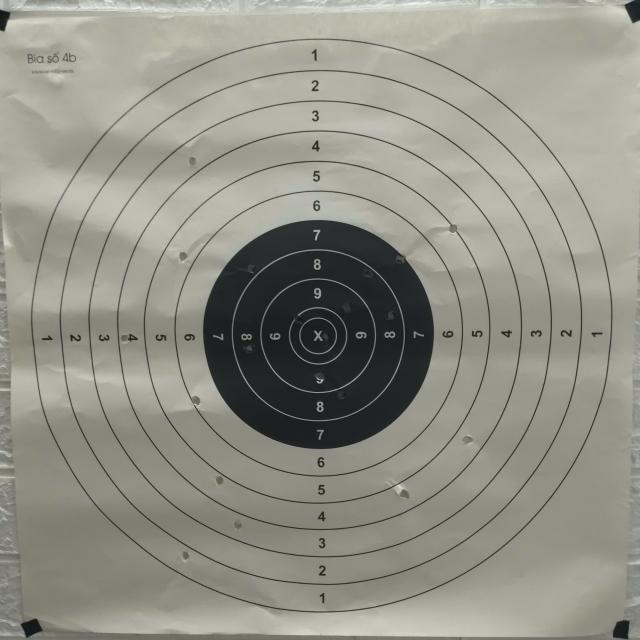bullet: (315, 372, 325, 383), (188, 156, 196, 168), (344, 300, 352, 312), (192, 396, 200, 407), (400, 488, 408, 499), (180, 252, 188, 263), (364, 268, 371, 279), (448, 224, 456, 232), (180, 552, 188, 560), (464, 436, 472, 444), (248, 264, 256, 272), (396, 256, 404, 264), (336, 392, 344, 400), (244, 344, 252, 352), (322, 332, 329, 341), (236, 520, 244, 527), (216, 476, 224, 483), (388, 312, 396, 319), (296, 316, 300, 324)
target: (8, 12, 624, 636)
